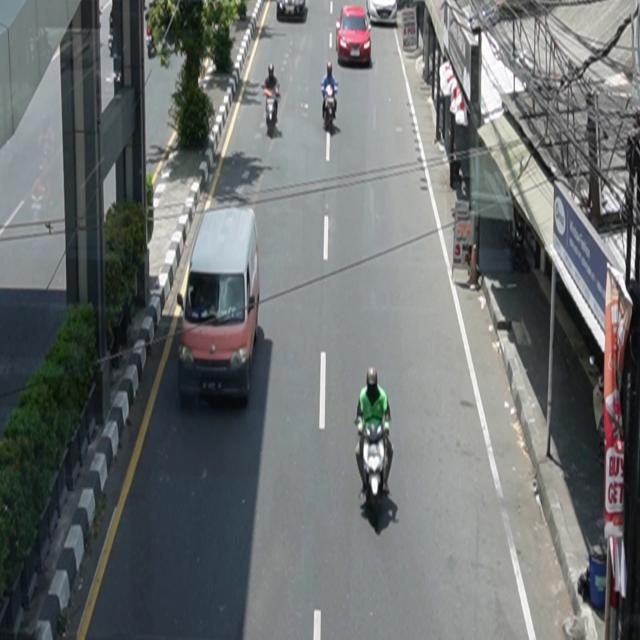bus: (177, 206, 261, 409)
car: (337, 6, 373, 66), (367, 1, 398, 26), (277, 1, 307, 18)
